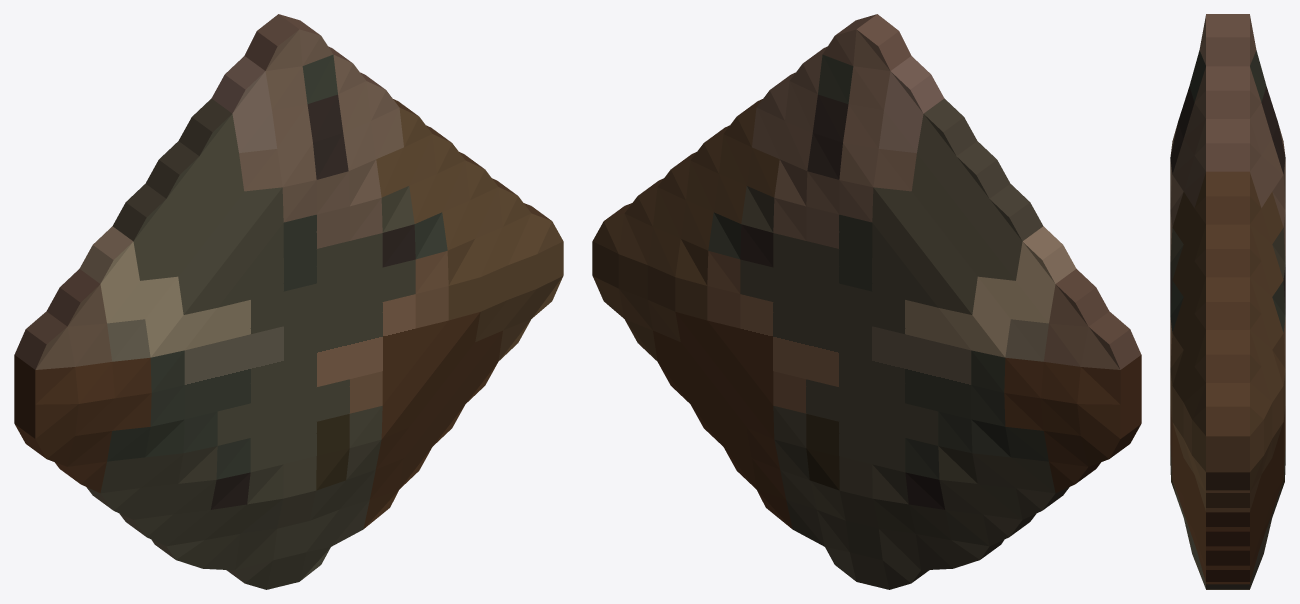
Rendered from coal_chunk.glb.
3 renders of one model, left to right at view 1: azimuth 30°, elevation 25°; view 2: azimuth 150°, elevation 25°; view 3: azimuth 270°, elevation 25°, orthographic. The views are drawn at different scales.
Visible parts, largest first — view 1: coal_chunk; view 2: coal_chunk; view 3: coal_chunk.
Part boxes in pixels (bbox=[...]): coal_chunk: bbox=[14, 14, 563, 589]; coal_chunk: bbox=[592, 14, 1141, 589]; coal_chunk: bbox=[1170, 14, 1285, 589].
Bounding box in the file's own units: 1 × 1 × 0.1813.
1 material, 1 textured.
